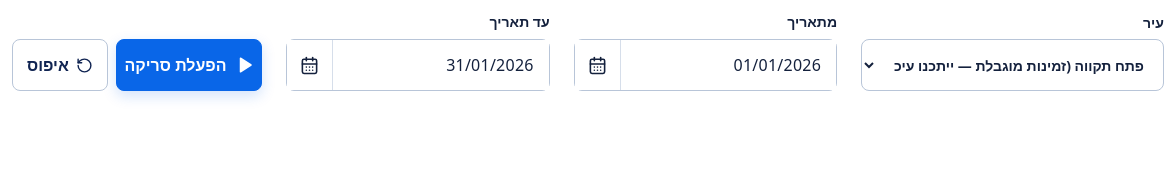
RunForm date display › blocks submission when a typed calendar date is invalid
Step 1. Replace the text in the field labelled "מתאריך" with "31/02/2024" → (728, 65), box [621, 40, 836, 90]
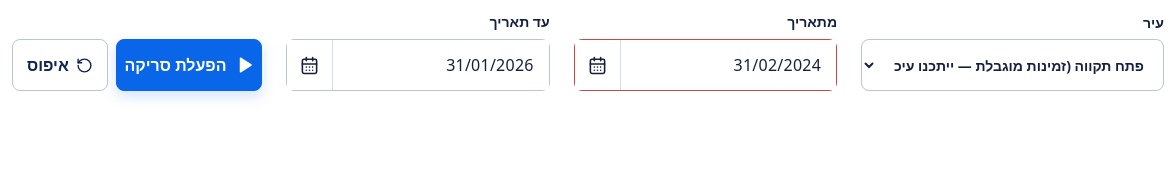
Step 2. Click the button "הפעלת סריקה" → (189, 65), box [116, 39, 262, 91]
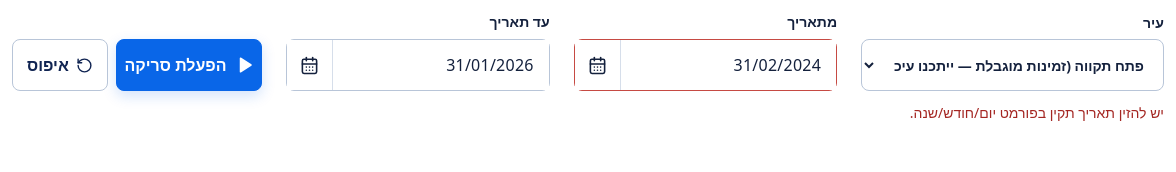
Now the message reads "יש להזין תאריך תקין בפורמט יום/חודש/שנה.", box [910, 103, 1164, 122]
